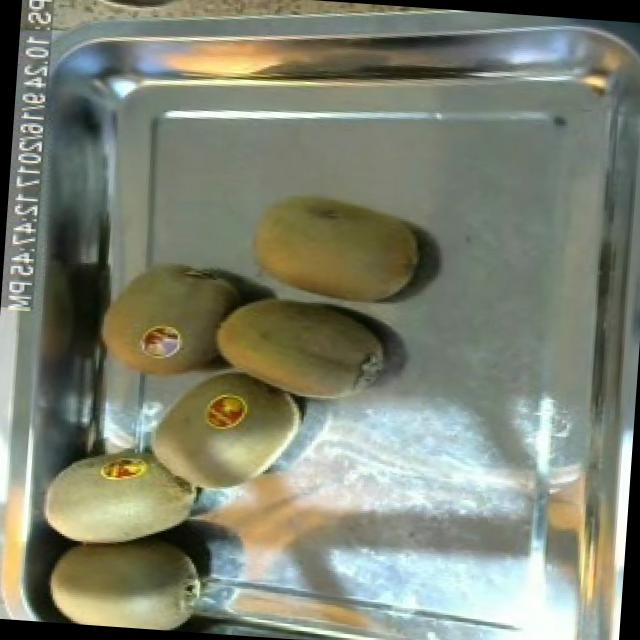Fruit: (237, 178, 436, 318), (200, 278, 399, 415), (132, 372, 316, 514), (23, 428, 215, 551), (26, 526, 222, 634)
